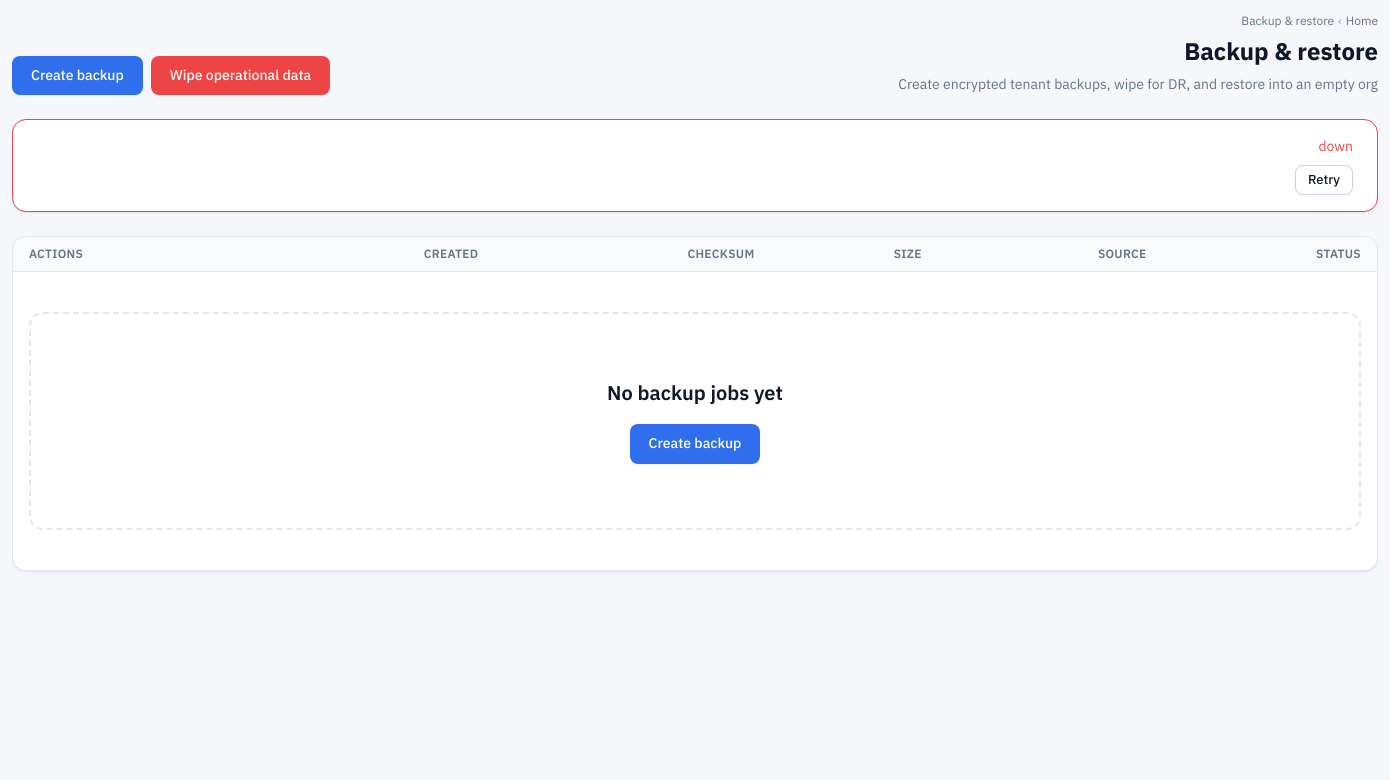
backup page › retries a failed jobs load
Check: the message shows "down", box x1=1318 y1=136 x2=1353 y2=157
Click the button "Retry".
click(1324, 180)  # box x1=1295 y1=165 x2=1353 y2=195
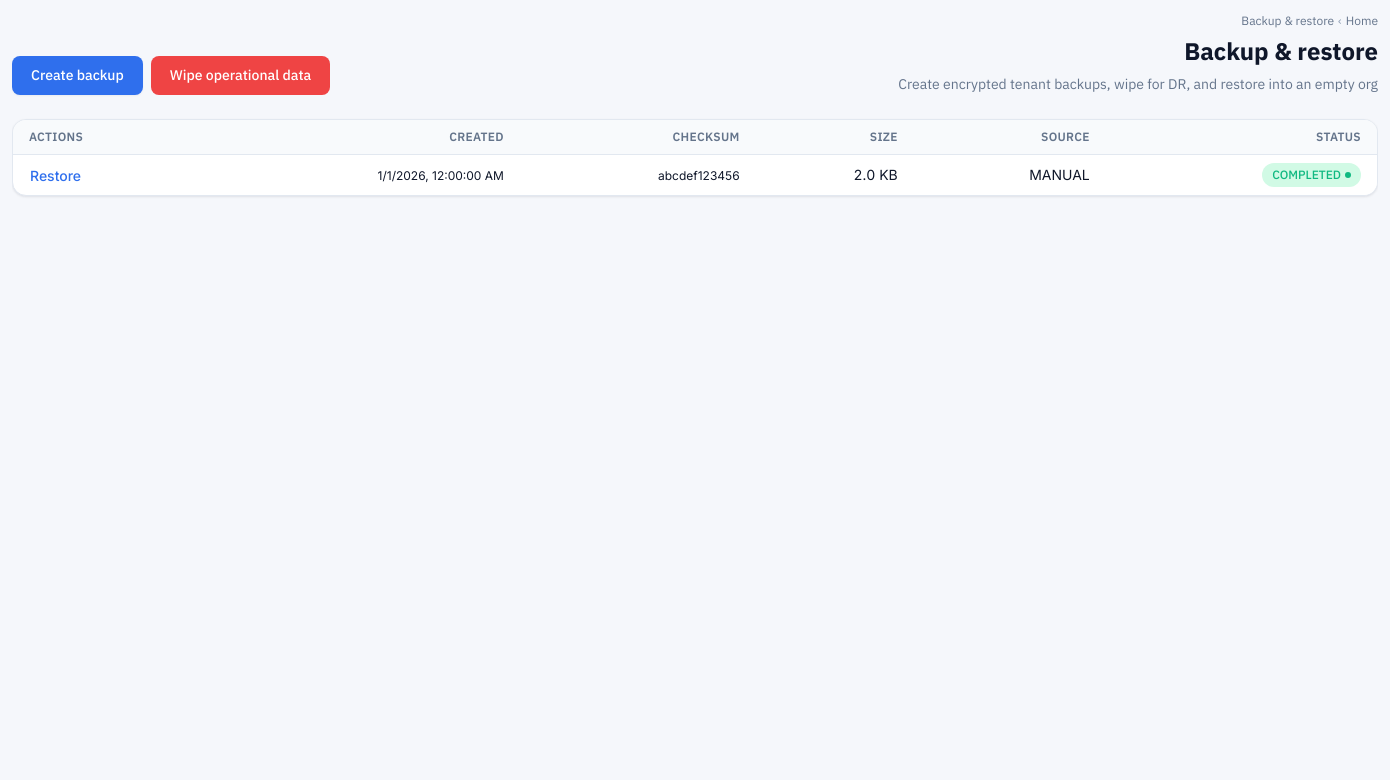
Check: the text "COMPLETED" is shown, box x1=1272 y1=166 x2=1341 y2=184
